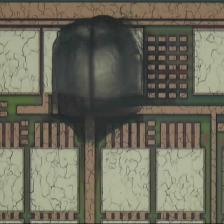PARTICLE: (49, 11, 152, 147)
